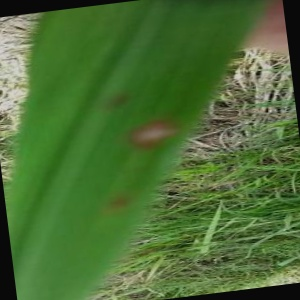Brown_Spot: (118, 104, 190, 153)
